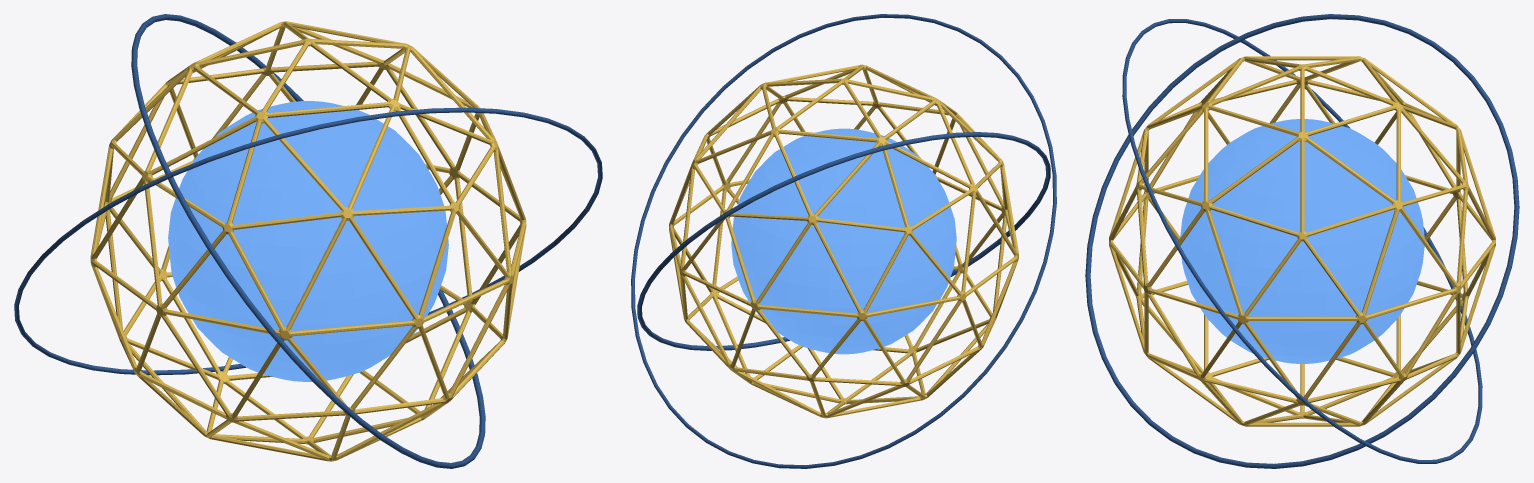
File: ai_neural_core.glb
3 views of the same model, side by side, from view 1: azimuth 30°, elevation 25°; view 2: azimuth 150°, elevation 25°; view 3: azimuth 270°, elevation 25° (orthographic). The views are drawn at different scales.
Parts seen in each view (by area): view 1: AI_Energy_Core, AI_Lattice, AI_Data_Ring_1, AI_Data_Ring_2; view 2: AI_Energy_Core, AI_Lattice, AI_Data_Ring_2, AI_Data_Ring_1; view 3: AI_Energy_Core, AI_Lattice, AI_Data_Ring_1, AI_Data_Ring_2.
Part boxes in pixels (box(x1,y1,x2,y2)): AI_Energy_Core: box(168, 101, 448, 381); AI_Lattice: box(90, 21, 526, 461); AI_Data_Ring_1: box(131, 14, 485, 468); AI_Data_Ring_2: box(14, 107, 602, 375); AI_Energy_Core: box(731, 128, 956, 354); AI_Lattice: box(669, 64, 1018, 418); AI_Data_Ring_2: box(631, 14, 1056, 468); AI_Data_Ring_1: box(637, 132, 1050, 350); AI_Energy_Core: box(1180, 119, 1424, 363); AI_Lattice: box(1109, 56, 1495, 426); AI_Data_Ring_1: box(1085, 14, 1519, 468); AI_Data_Ring_2: box(1122, 19, 1482, 463).
Size of the model in its own units: 2.99 by 2.27 by 2.48.
